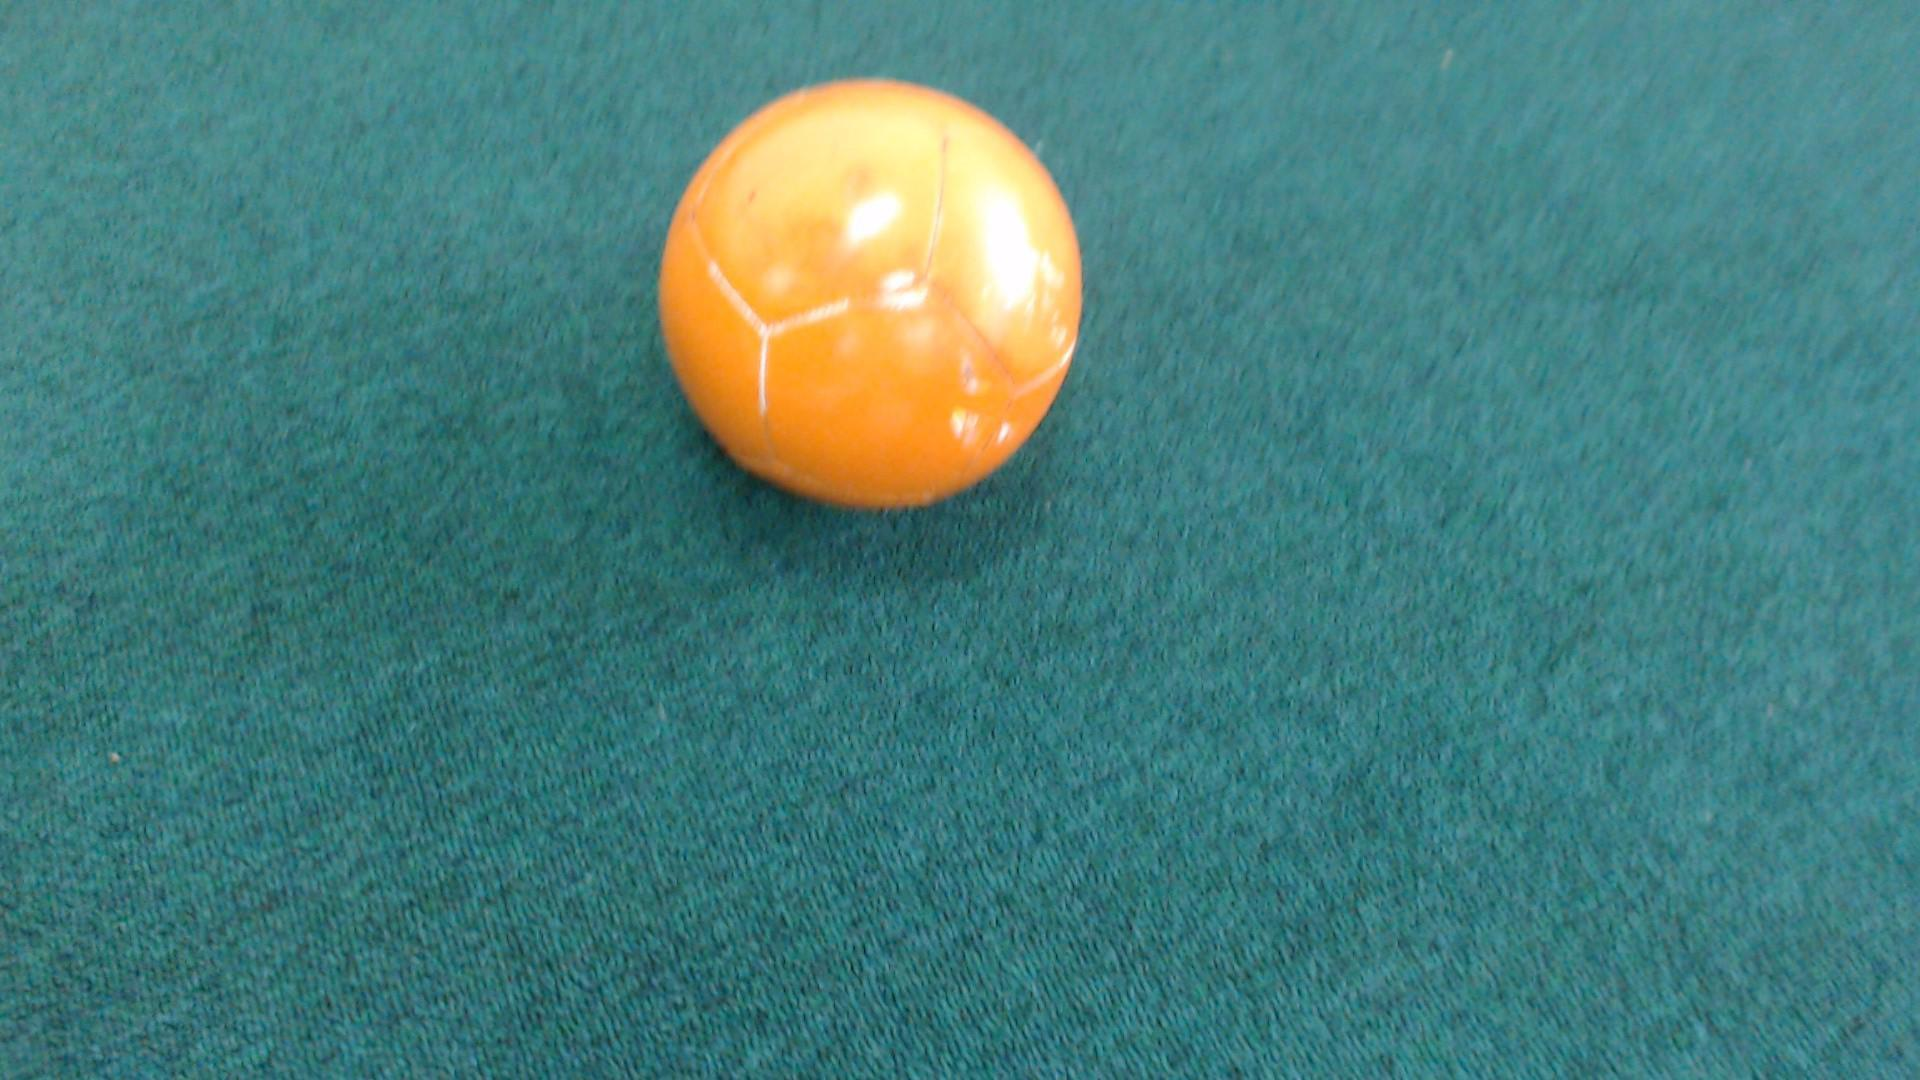bola: (621, 49, 1131, 559)
